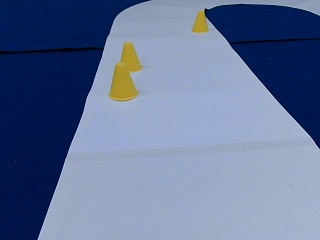cone: (108, 63, 139, 100), (119, 42, 142, 72), (192, 11, 208, 32)
